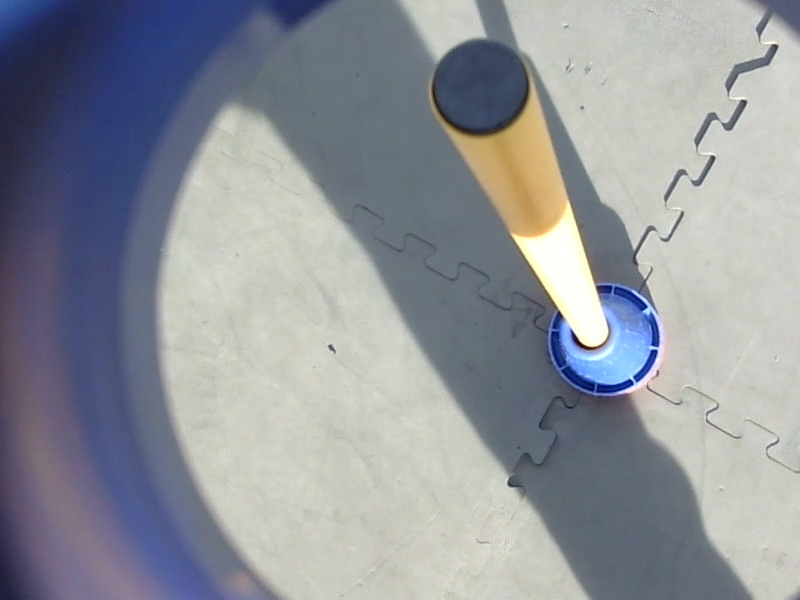tip: (420, 32, 539, 147)
